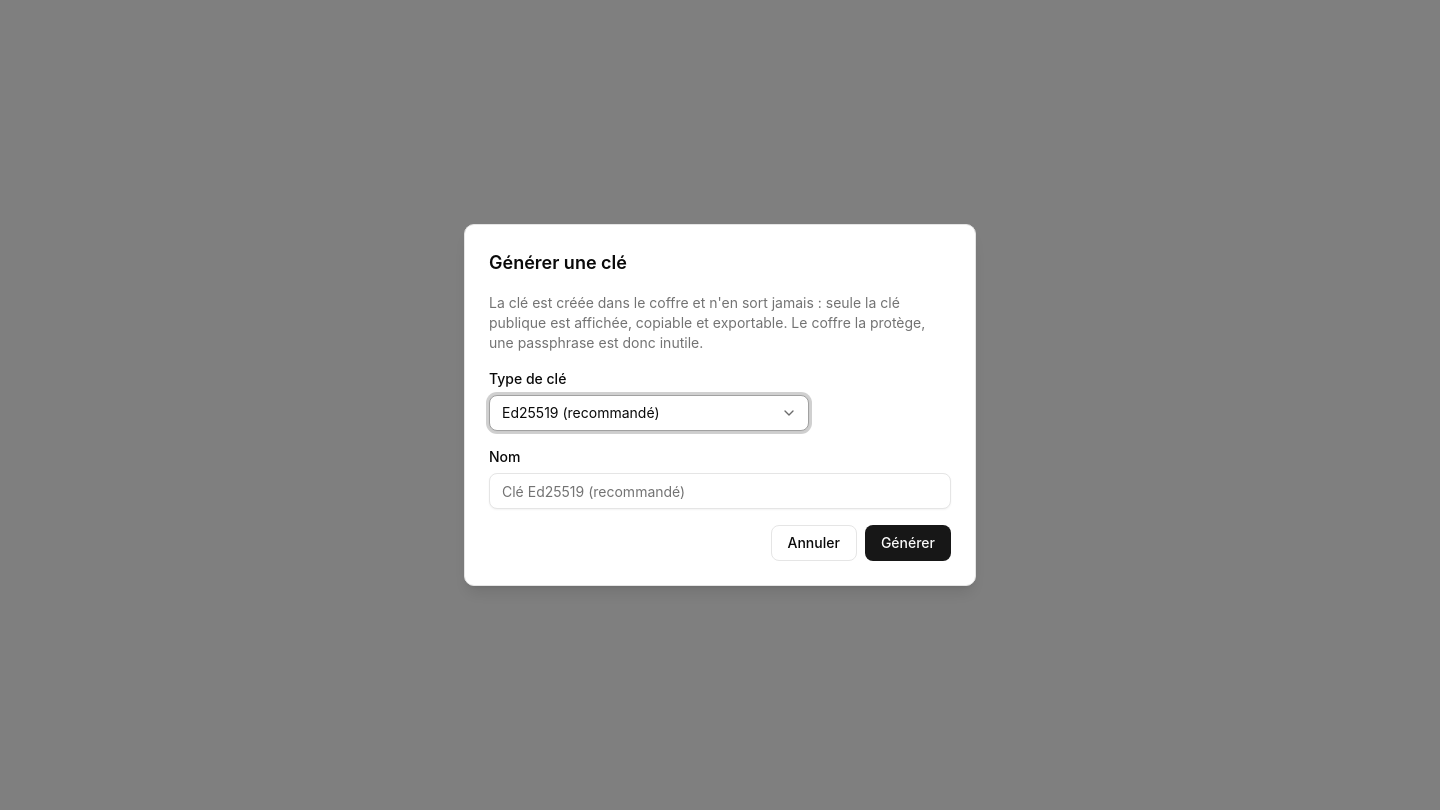
Test case: génération de clé (KEY-01) › génère une clé RSA 4096 nommée, et affiche une erreur du cœur
Select "RSA 4096 bits" in the dropdown labelled "Type de clé" at (649, 413), box [489,395,809,431]
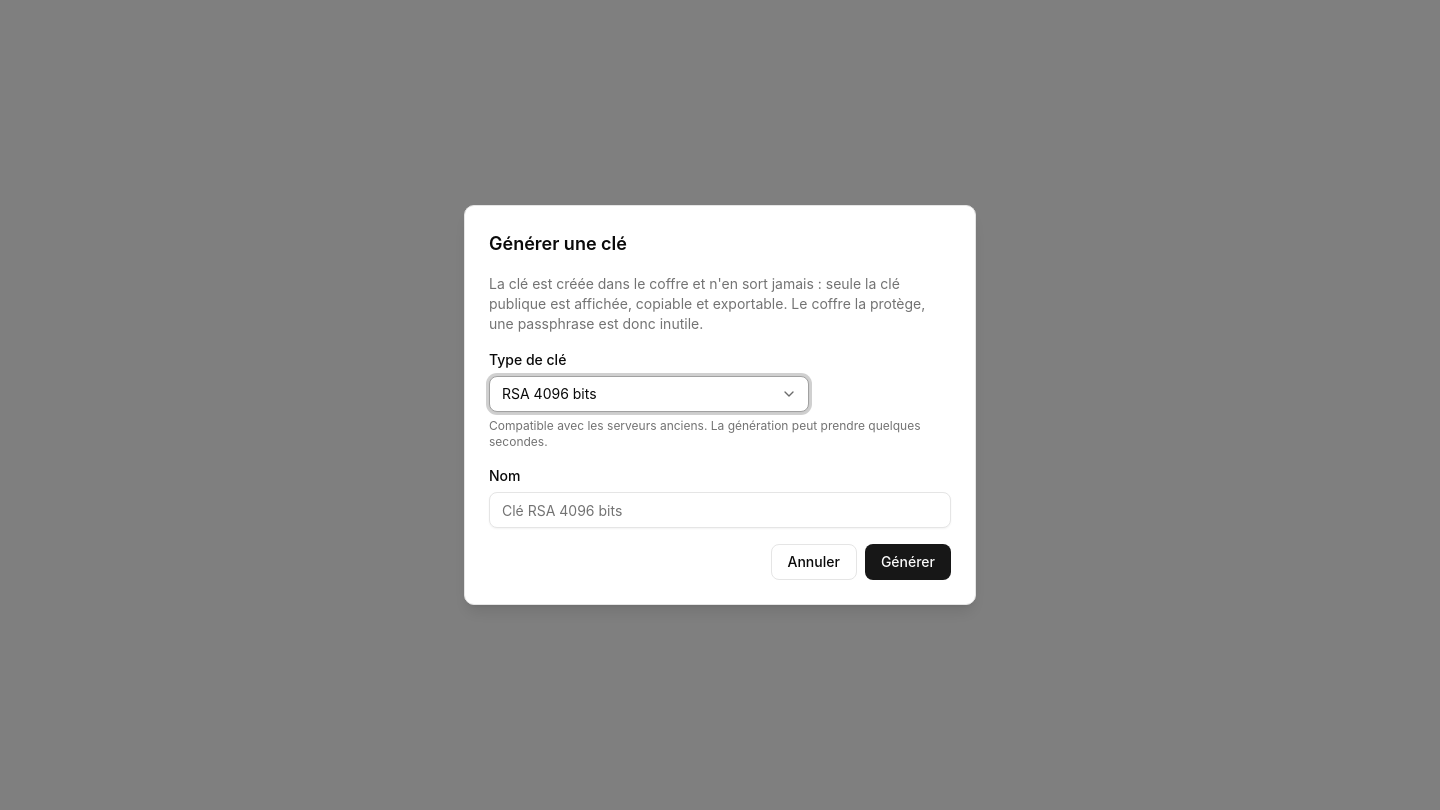
Expected: the text "quelques secondes" is shown, [489,418,920,449]
Type "ancien serveur" into the field labelled "Nom" at (720, 510), box [489,492,951,528]
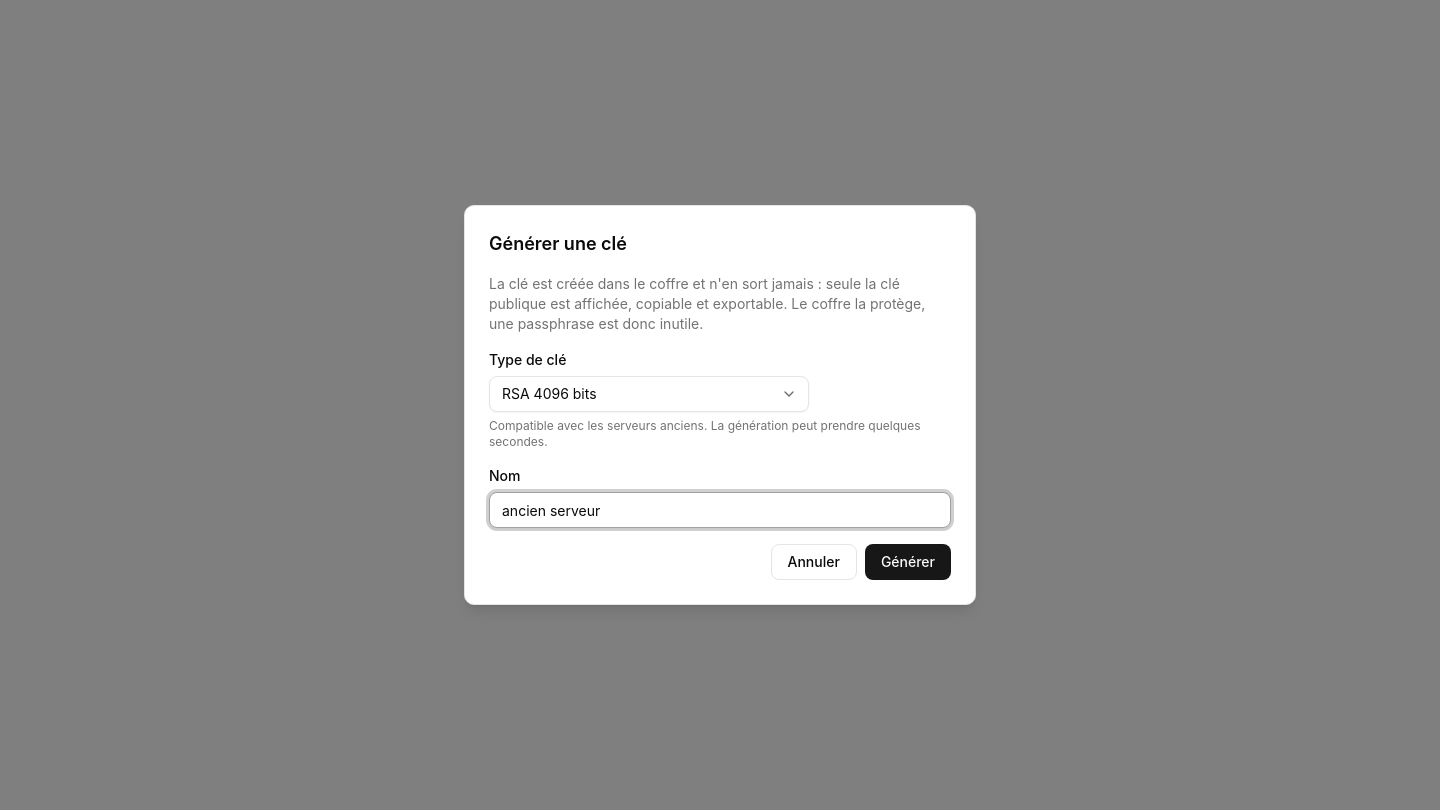
Click the button "Générer" at (908, 562), box [865,544,951,580]
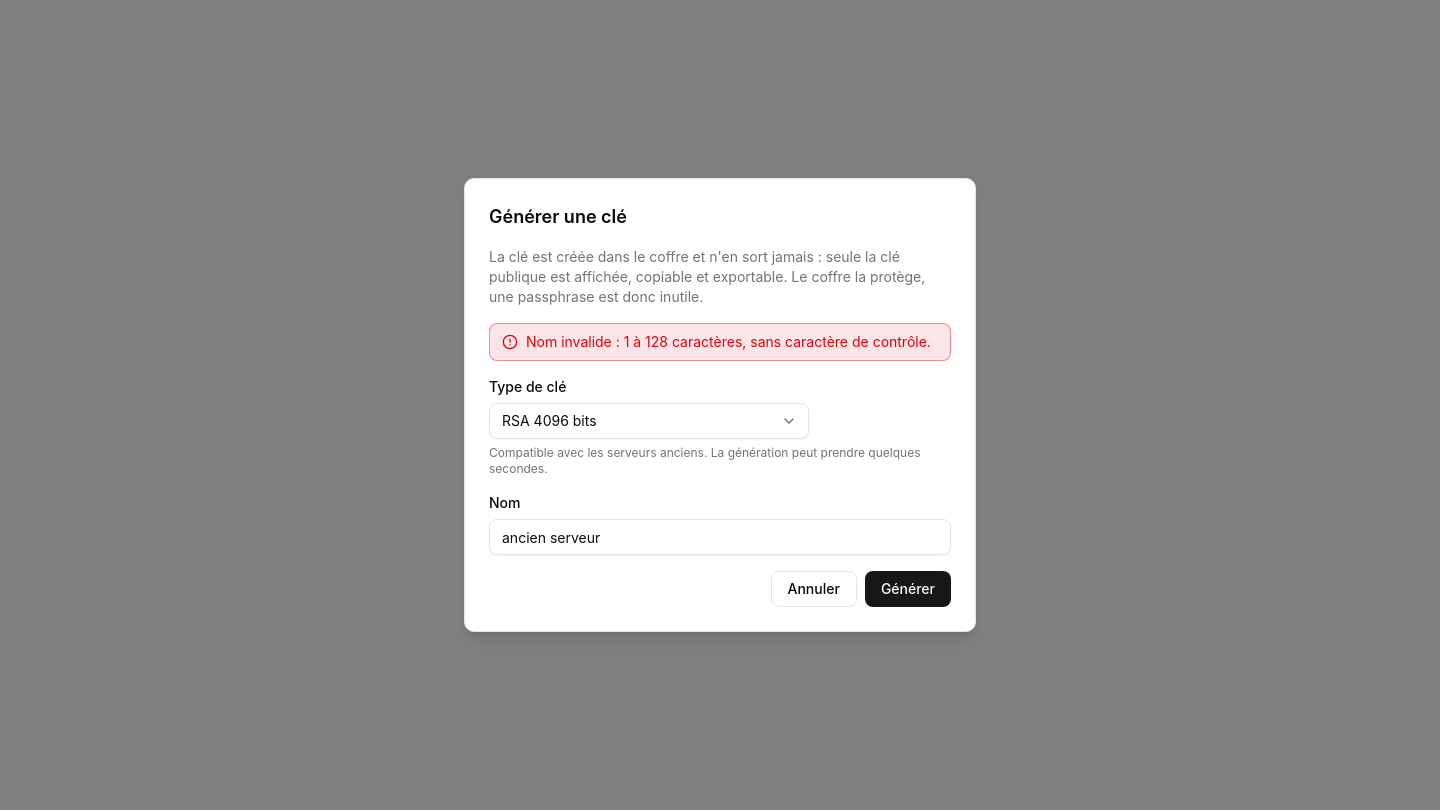
Expected: the message "Nom invalide : 1 à 128 caractères, sans caractère de contrôle." is shown, [489,323,951,361]
